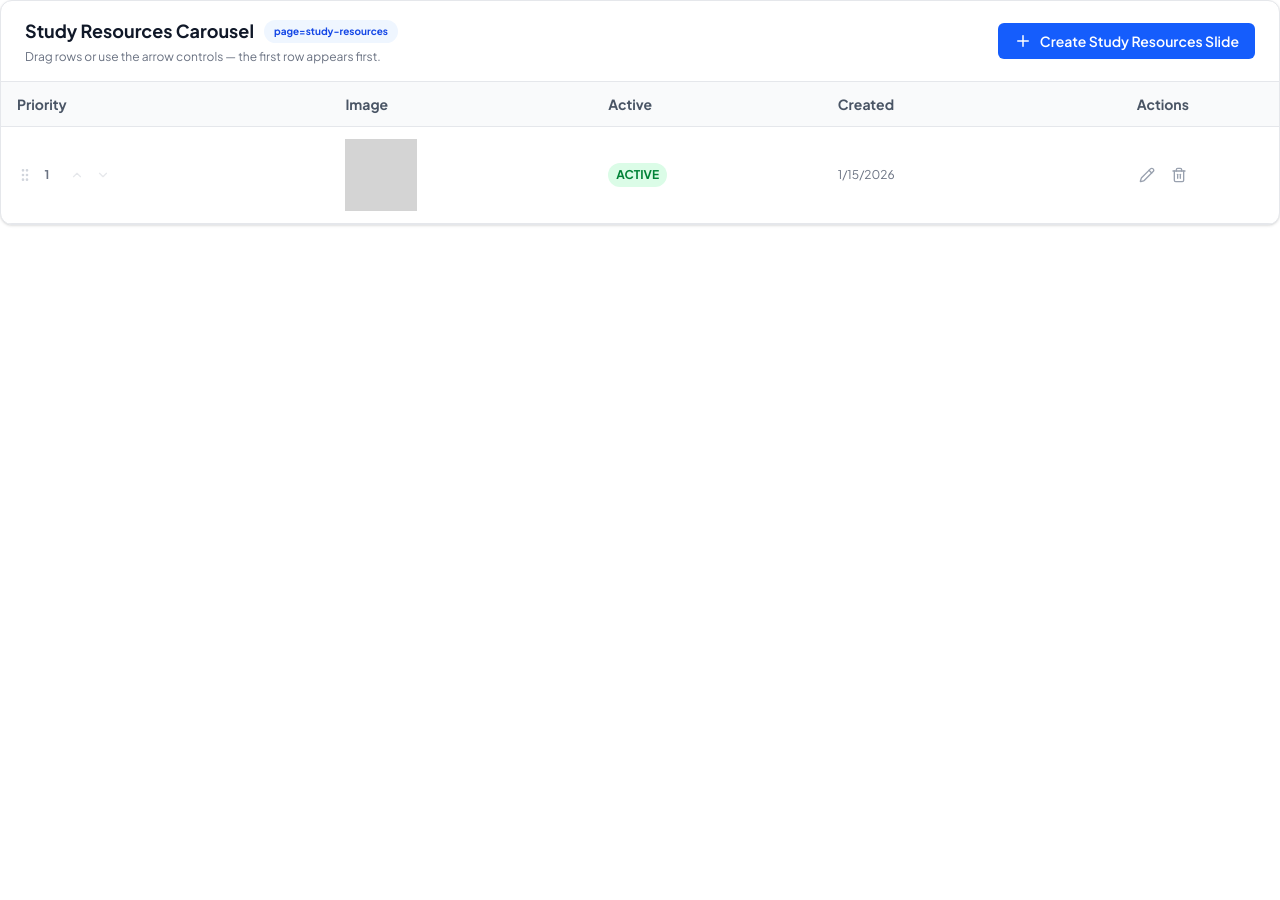
Test: HeroBannerTab in image-only mode › editing a slide opens the image-only form
Click the button named "Edit slide 1".
click(1147, 175)  # box [1133,161,1161,189]
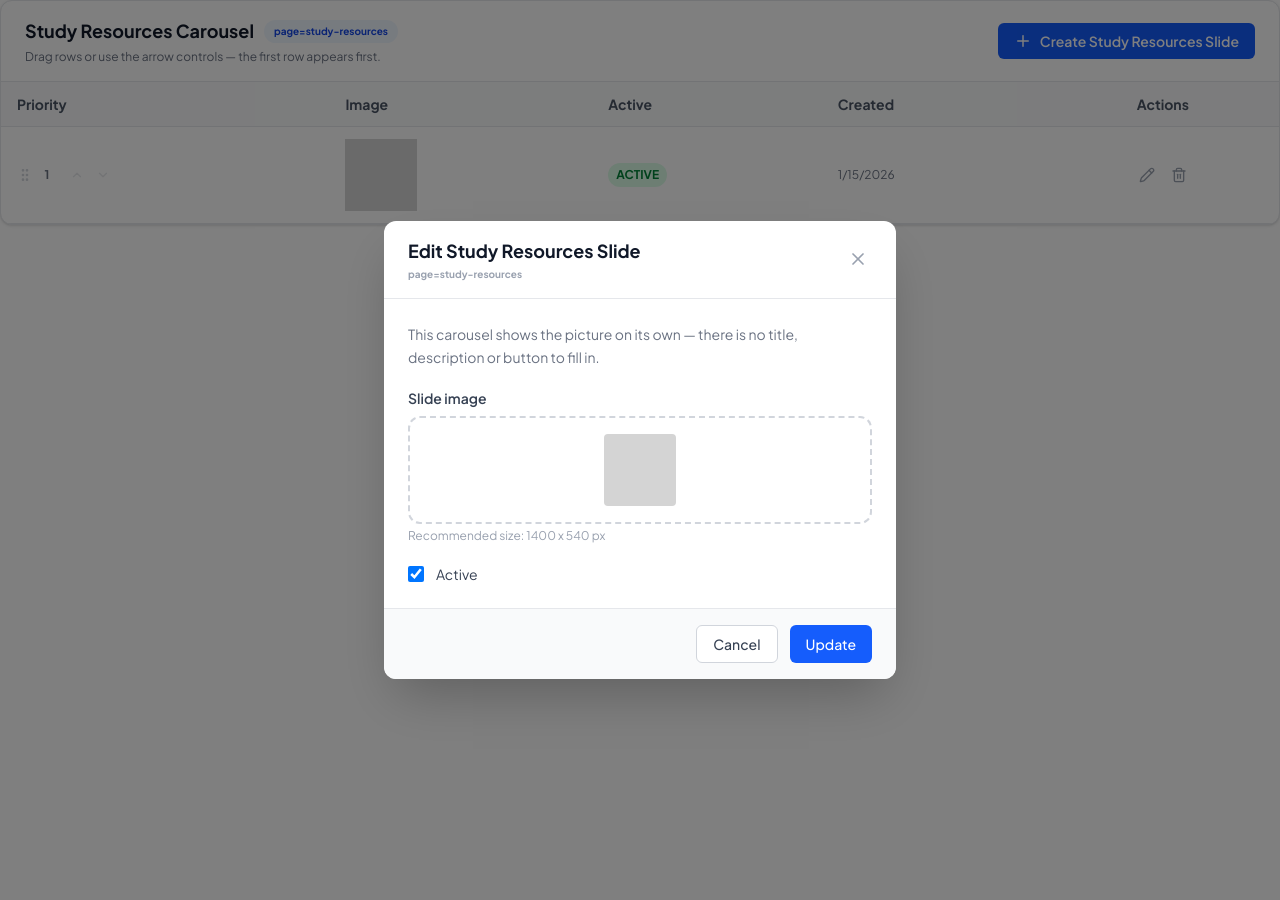
Check: the dialog is shown, box [384,221,896,679]
Check: the file field is shown, box [408,416,872,524]
